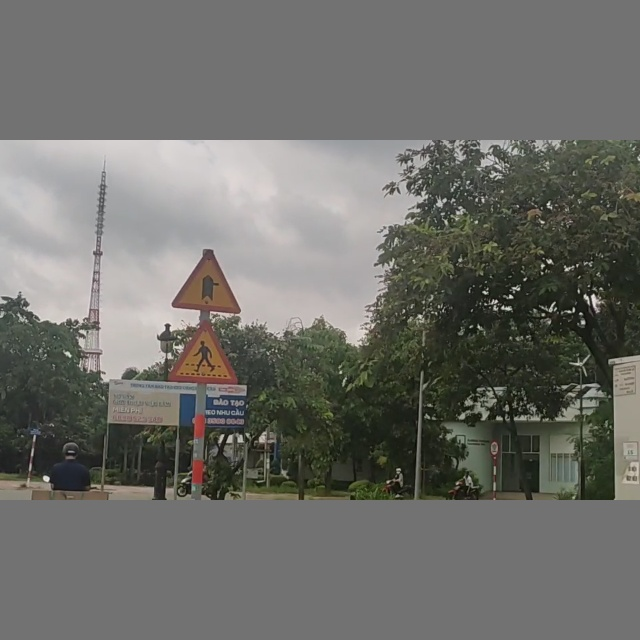W.207: (171, 251, 243, 315)
W.224: (169, 320, 240, 384)
